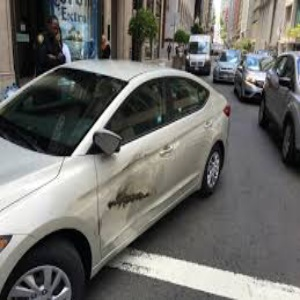door_scratch: (104, 152, 212, 215)
